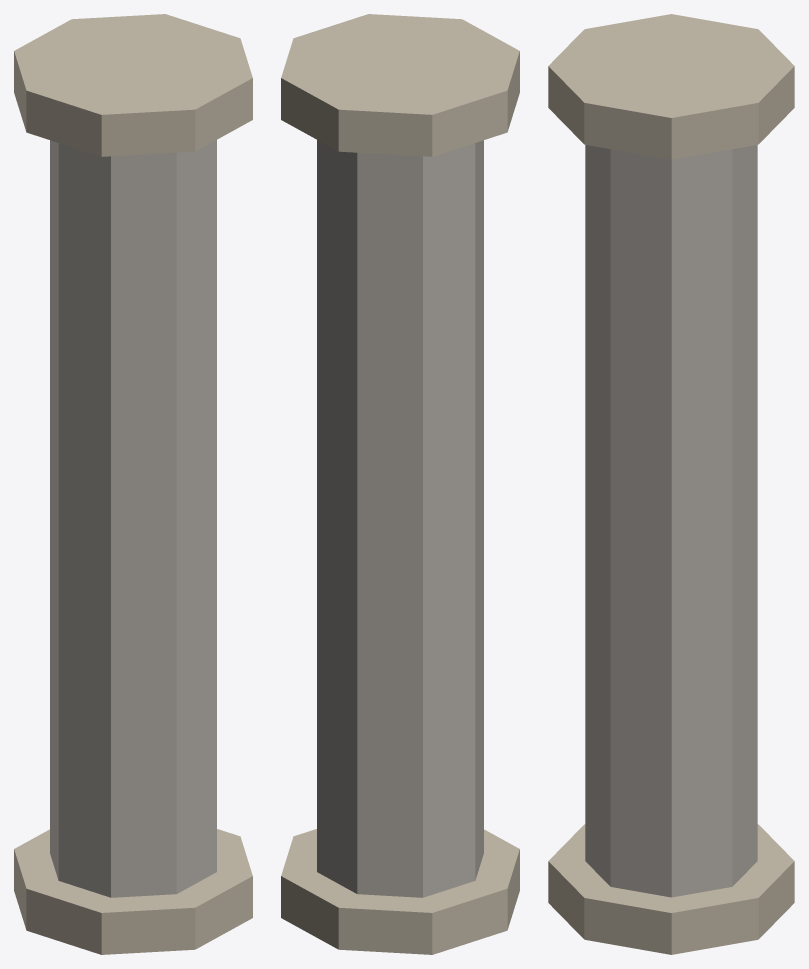
Rendered from pillar.glb.
The picture shows the model from 3 angles, left to right: view 1: azimuth 30°, elevation 25°; view 2: azimuth 150°, elevation 25°; view 3: azimuth 270°, elevation 25°; orthographic projection.
Parts seen in each view (by area): view 1: PillarShaft, PillarCapBase; view 2: PillarShaft, PillarCapBase; view 3: PillarShaft, PillarCapBase.
Boxes of the visible parts, left/top/right/bottom form: PillarShaft: left=50, top=140, right=216, bottom=897; PillarCapBase: left=14, top=14, right=252, bottom=954; PillarShaft: left=317, top=140, right=483, bottom=897; PillarCapBase: left=281, top=14, right=519, bottom=954; PillarShaft: left=585, top=145, right=757, bottom=897; PillarCapBase: left=548, top=14, right=794, bottom=954.
Bounding box in the file's own units: 0.8 × 3 × 0.8.
